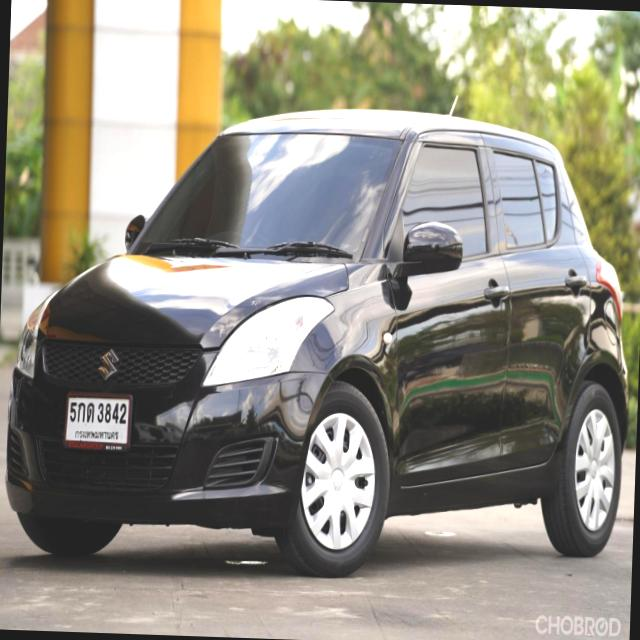license_plate: (62, 390, 131, 456)
